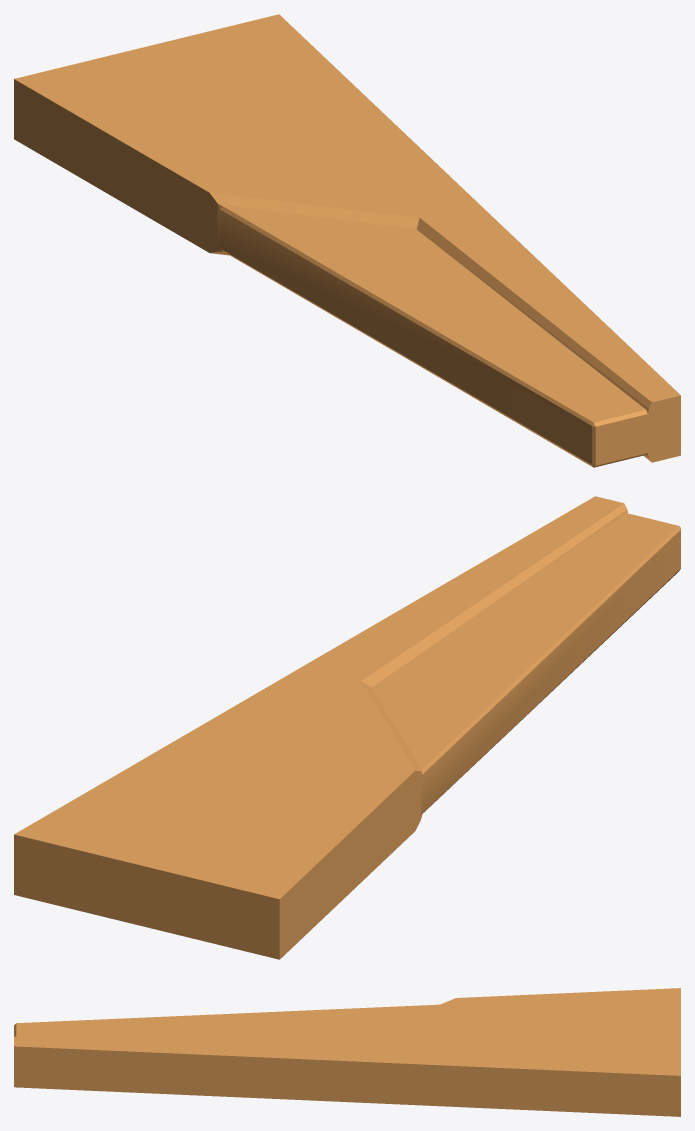
Rendered from Platform_001.fbx.
3 views of the same model, one above another, from view 1: azimuth 30°, elevation 25°; view 2: azimuth 150°, elevation 25°; view 3: azimuth 270°, elevation 25° (orthographic). The views are drawn at different scales.
Visible parts, largest first — view 1: pCube46; view 2: pCube46; view 3: pCube46.
Boxes of the visible parts, bbox=[...] form: pCube46: bbox=[14, 14, 680, 467]; pCube46: bbox=[14, 496, 680, 959]; pCube46: bbox=[14, 988, 680, 1116].
Bounding box in the file's own units: 106 × 22.96 × 339.
